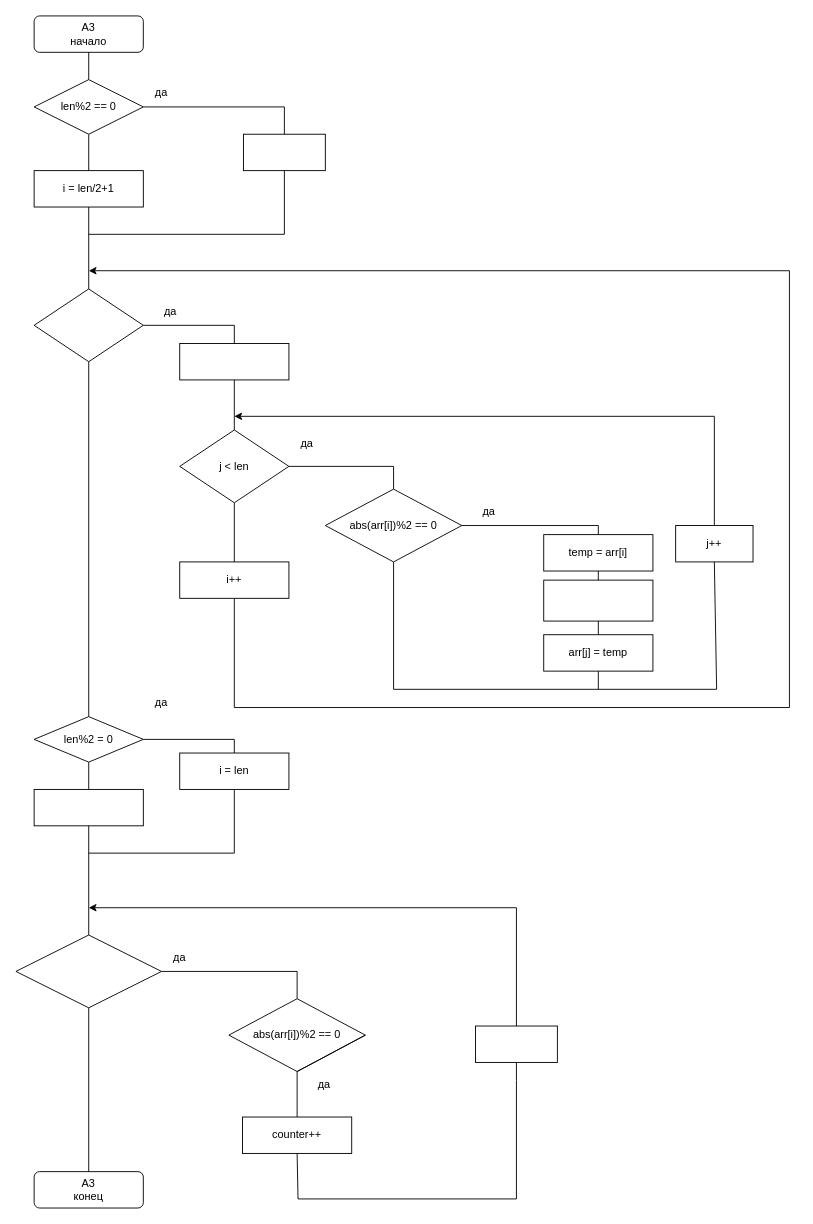
Some shapes in this 813 by 1224 pixel diagram are drawn without their labels. The centre of each missing label's shape, as x and y in pixels:
"arr[i] = arr[j]" goes at [598,600].
"i < len" goes at [88,325].
"i = len-1" goes at [88,807].
"i = len/2" goes at [284,152].
"i > len/2" goes at [88,971].
"i--" goes at [516,1043].
"j = i" goes at [234,361].
